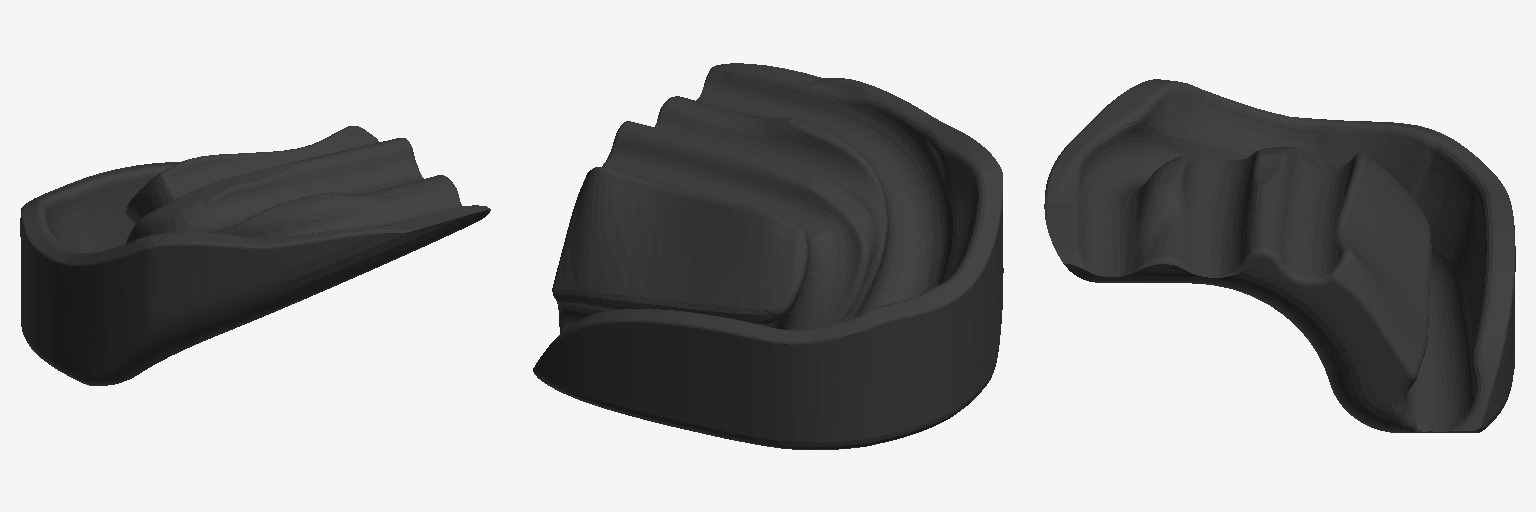
robot.urdf — Slider_URDF&Meshes_V1.1:
<?xml version="1.0" encoding="utf-8"?>
<!-- This URDF was automatically created by SolidWorks to URDF Exporter! Originally created by Stephen Brawner (brawner@gmail.com) 
     Commit Version: 1.6.0-4-g7f85cfe  Build Version: 1.6.7995.38578
     For more information, please see http://wiki.ros.org/sw_urdf_exporter -->
<robot
  name="Slider_URDF&amp;Meshes_V1.1">
  <link
    name="base_link">
    <inertial>
      <origin
        xyz="-0.0149334613699201 0.0247643527900253 0.0720802425608906"
        rpy="0 0 0" />
      <mass
        value="5.44194850182946" />
      <inertia
        ixx="0.0392271420379846"
        ixy="-0.00157335116290989"
        ixz="-0.00471385970435551"
        iyy="0.0458735602124632"
        iyz="0.00940658523335364"
        izz="0.0684487095616402" />
    </inertial>
    <visual>
      <origin
        xyz="0 0 0"
        rpy="0 0 0" />
      <geometry>
        <mesh
          filename="package://Slider_URDF&amp;Meshes_V1.1/meshes/base_link.STL" />
      </geometry>
      <material
        name="">
        <color
          rgba="0.270588235294118 0.270588235294118 0.270588235294118 1" />
      </material>
    </visual>
    <collision>
      <origin
        xyz="0 0 0"
        rpy="0 0 0" />
      <geometry>
        <mesh
          filename="package://Slider_URDF&amp;Meshes_V1.1/meshes/base_link.STL" />
      </geometry>
    </collision>
  </link>
  <link
    name="Ball1">
    <inertial>
      <origin
        xyz="-0.13493346136992 0.133290219829666 -0.0858672790374191"
        rpy="0 0 0" />
      <mass
        value="5.44194850182946" />
      <inertia
        ixx="0.0392271420379846"
        ixy="-0.00157335116290989"
        ixz="-0.00471385970435551"
        iyy="0.0458735602124632"
        iyz="0.00940658523335364"
        izz="0.0684487095616402" />
    </inertial>
    <visual>
      <origin
        xyz="0 0 0"
        rpy="0 0 0" />
      <geometry>
        <mesh
          filename="package://Slider_URDF&amp;Meshes_V1.1/meshes/Ball1.STL" />
      </geometry>
      <material
        name="">
        <color
          rgba="0.270588235294118 0.270588235294118 0.270588235294118 1" />
      </material>
    </visual>
    <collision>
      <origin
        xyz="0 0 0"
        rpy="0 0 0" />
      <geometry>
        <mesh
          filename="package://Slider_URDF&amp;Meshes_V1.1/meshes/Ball1.STL" />
      </geometry>
    </collision>
  </link>
  <joint
    name="Ball1"
    type="fixed">
    <origin
      xyz="0.12 -0.108525867039641 0.15794752159831"
      rpy="0 0 0" />
    <parent
      link="base_link" />
    <child
      link="Ball1" />
    <axis
      xyz="0 0 0" />
  </joint>
  <link
    name="Ball2">
    <inertial>
      <origin
        xyz="-0.13493346136992 0.0642461259443498 -0.0858672790374191"
        rpy="0 0 0" />
      <mass
        value="5.44194850182946" />
      <inertia
        ixx="0.0392271420379846"
        ixy="-0.00157335116290989"
        ixz="-0.00471385970435551"
        iyy="0.0458735602124632"
        iyz="0.00940658523335364"
        izz="0.0684487095616402" />
    </inertial>
    <visual>
      <origin
        xyz="0 0 0"
        rpy="0 0 0" />
      <geometry>
        <mesh
          filename="package://Slider_URDF&amp;Meshes_V1.1/meshes/Ball2.STL" />
      </geometry>
      <material
        name="">
        <color
          rgba="0.270588235294118 0.270588235294118 0.270588235294118 1" />
      </material>
    </visual>
    <collision>
      <origin
        xyz="0 0 0"
        rpy="0 0 0" />
      <geometry>
        <mesh
          filename="package://Slider_URDF&amp;Meshes_V1.1/meshes/Ball2.STL" />
      </geometry>
    </collision>
  </link>
  <joint
    name="Ball2"
    type="fixed">
    <origin
      xyz="0.12 -0.0394817731543244 0.15794752159831"
      rpy="0 0 0" />
    <parent
      link="base_link" />
    <child
      link="Ball2" />
    <axis
      xyz="0 0 0" />
  </joint>
  <link
    name="Ball3">
    <inertial>
      <origin
        xyz="-0.13493346136992 -0.00425387405565025 -0.0858672790374191"
        rpy="0 0 0" />
      <mass
        value="5.44194850182946" />
      <inertia
        ixx="0.0392271420379846"
        ixy="-0.00157335116290989"
        ixz="-0.00471385970435551"
        iyy="0.0458735602124632"
        iyz="0.00940658523335364"
        izz="0.0684487095616402" />
    </inertial>
    <visual>
      <origin
        xyz="0 0 0"
        rpy="0 0 0" />
      <geometry>
        <mesh
          filename="package://Slider_URDF&amp;Meshes_V1.1/meshes/Ball3.STL" />
      </geometry>
      <material
        name="">
        <color
          rgba="0.270588235294118 0.270588235294118 0.270588235294118 1" />
      </material>
    </visual>
    <collision>
      <origin
        xyz="0 0 0"
        rpy="0 0 0" />
      <geometry>
        <mesh
          filename="package://Slider_URDF&amp;Meshes_V1.1/meshes/Ball3.STL" />
      </geometry>
    </collision>
  </link>
  <joint
    name="Ball3"
    type="fixed">
    <origin
      xyz="0.12 0.0290182268456756 0.15794752159831"
      rpy="0 0 0" />
    <parent
      link="base_link" />
    <child
      link="Ball3" />
    <axis
      xyz="0 0 0" />
  </joint>
</robot>

--- Render facts (derived) ---
The picture shows the robot from 3 angles, left to right: view 1: azimuth 30°, elevation 25°; view 2: azimuth 150°, elevation 25°; view 3: azimuth 270°, elevation 25°; orthographic projection.
Robot: Slider_URDF&Meshes_V1.1 — 4 links, 3 joints (3 fixed); root link base_link; default pose: all joints at 0.
Visible links, largest first — view 1: Ball1, Ball2, Ball3; view 2: Ball1, Ball2, Ball3; view 3: Ball1, Ball2, Ball3.
Link boxes in pixels (x1,y1,x2,y2): Ball1: [21, 126, 490, 385]; Ball2: [20, 126, 419, 385]; Ball3: [20, 129, 461, 375]; Ball1: [533, 63, 1003, 449]; Ball2: [533, 121, 1001, 449]; Ball3: [582, 87, 1003, 435]; Ball1: [1044, 79, 1514, 432]; Ball2: [1198, 99, 1515, 432]; Ball3: [1083, 87, 1448, 430].
Bounding box of the posed robot: 0.3175 × 0.3241 × 0.1523 m (x, y, z).
3 mesh visuals loaded from 4 distinct referenced files (3 binary STL); not drawn: 1 (reference not matched to a file when rendering).
